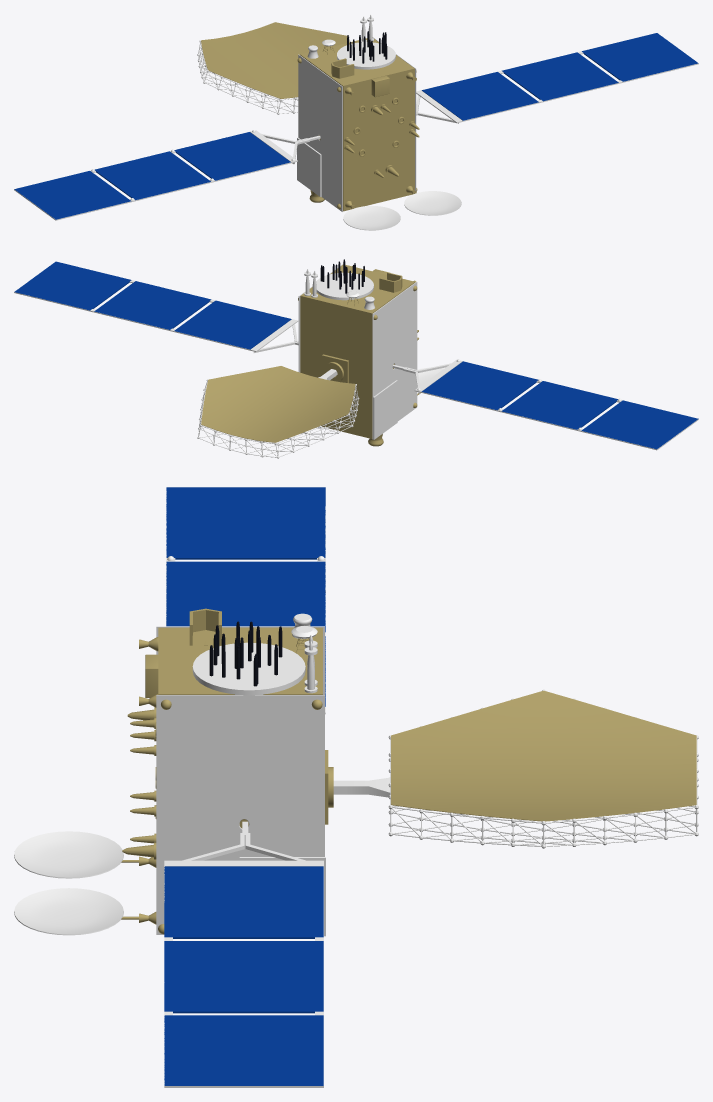
The model's file is BD-IGSO.gltf.
The picture shows the model from 3 angles, top to bottom: view 1: azimuth 30°, elevation 25°; view 2: azimuth 150°, elevation 25°; view 3: azimuth 270°, elevation 25°; orthographic projection. The views are drawn at different scales.
Visible parts, largest first — view 1: 主体-材质.1, 主体-材质.2, 01_1-材质.3, 01-材质.3, 02_1-材质.1, 02_1-材质.2, 01-材质.2, 01_1-材质.2, 主体-材质; view 2: 01_1-材质.3, 01-材质.3, 主体-材质.1, 02_1-材质.1, 主体-材质.2, 02_1-材质.2, 01-材质.2, 01_1-材质.2, 主体-材质; view 3: 主体-材质.2, 01_1-材质.3, 02_1-材质.1, 01-材质.3, 主体-材质.1, 02_1-材质.2, 01_1-材质.2, 主体-材质.
Part boxes in pixels (x1,y1,x2,y2): 主体-材质.1: (297,38,419,211); 主体-材质.2: (297,14,461,230); 01_1-材质.3: (422,33,698,120); 01-材质.3: (14,132,290,219); 02_1-材质.1: (201,22,349,98); 02_1-材质.2: (197,22,350,114); 01-材质.2: (14,130,320,220); 01_1-材质.2: (416,34,698,123); 主体-材质: (347,31,387,63); 01_1-材质.3: (14,261,291,349); 01-材质.3: (421,361,698,449); 主体-材质.1: (298,265,420,446); 02_1-材质.1: (201,366,355,442); 主体-材质.2: (298,264,443,439); 02_1-材质.2: (197,365,359,458); 01-材质.2: (392,359,698,450); 01_1-材质.2: (14,265,298,352); 主体-材质: (320,259,364,293); 主体-材质.2: (14,613,325,936); 01_1-材质.3: (164,866,323,1085); 02_1-材质.1: (391,690,696,821); 01-材质.3: (166,487,325,706); 主体-材质.1: (121,608,333,934); 02_1-材质.2: (333,689,698,848); 01_1-材质.2: (164,821,323,1087); 主体-材质: (209,621,282,686).
Bounding box in the file's own units: 2135 × 525 × 1032.
